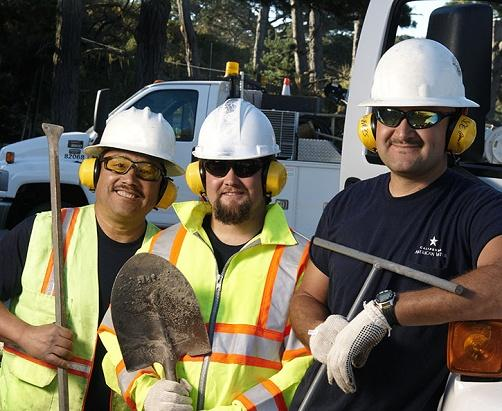helmet: (362, 39, 483, 114), (82, 107, 188, 182), (194, 99, 282, 167)
